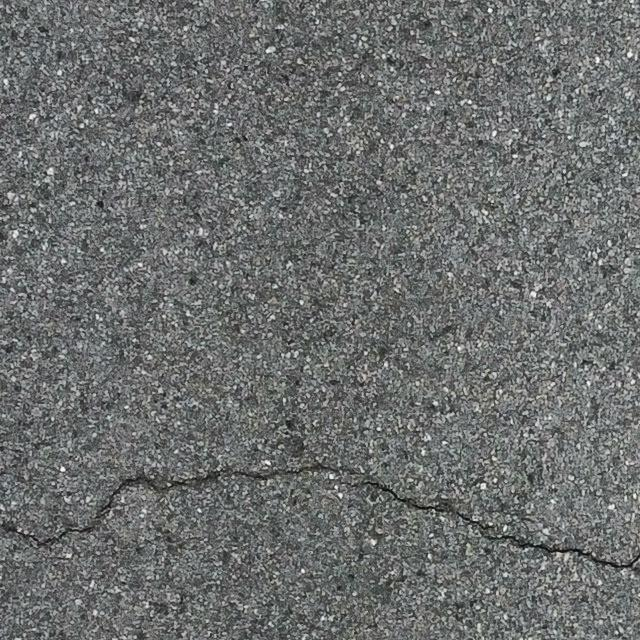TransverseCrack: (3, 465, 640, 573)
